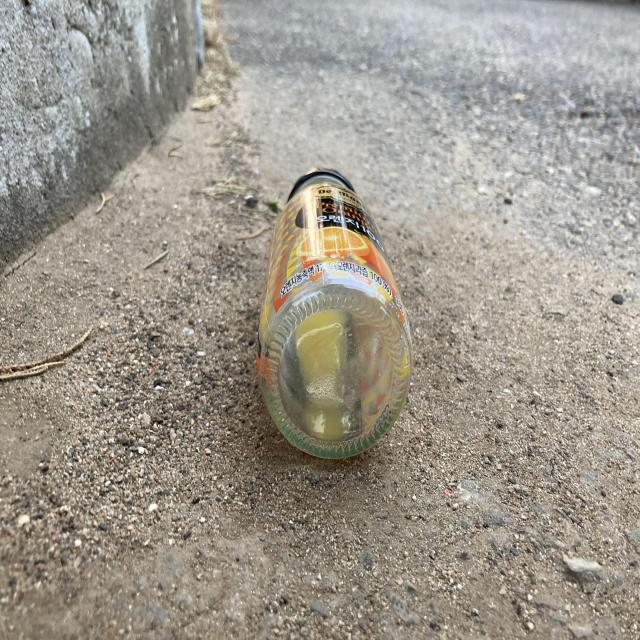glass: (258, 169, 413, 459)
